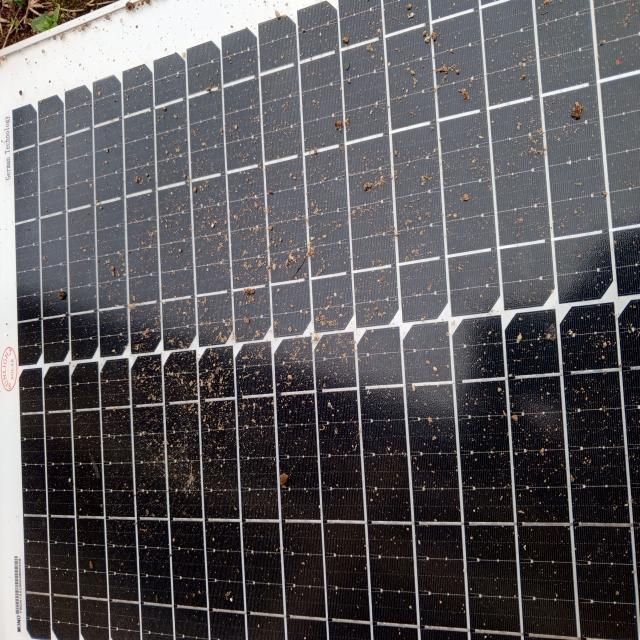Anomaly Solar Panel: (16, 32, 639, 628)
Surface Contaminant: (16, 32, 639, 628)
